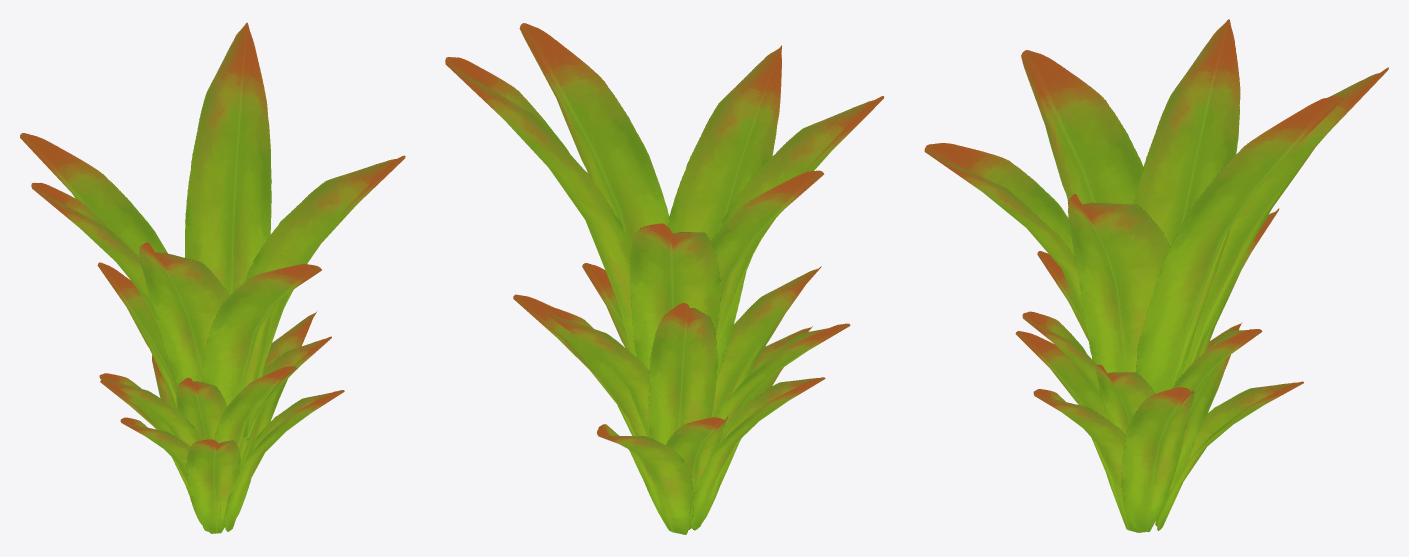
File: plant_1_big.gltf
3 renders of one model, left to right at view 1: azimuth 30°, elevation 25°; view 2: azimuth 150°, elevation 25°; view 3: azimuth 270°, elevation 25°, orthographic. The views are drawn at different scales.
Parts seen in each view (by area): view 1: plant_1_big; view 2: plant_1_big; view 3: plant_1_big.
Part boxes in pixels (x1,y1,x2,y2): plant_1_big: (20,22,405,533); plant_1_big: (445,23,883,534); plant_1_big: (924,19,1388,532).
Size of the model in its own units: 1.81 by 2.35 by 1.95.
Materials: 1 (1 with a texture image).
